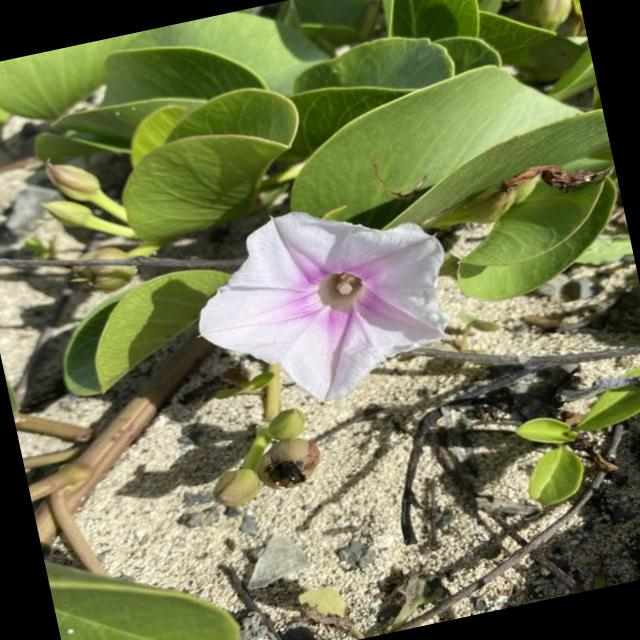ipomoea: (172, 178, 473, 428)
